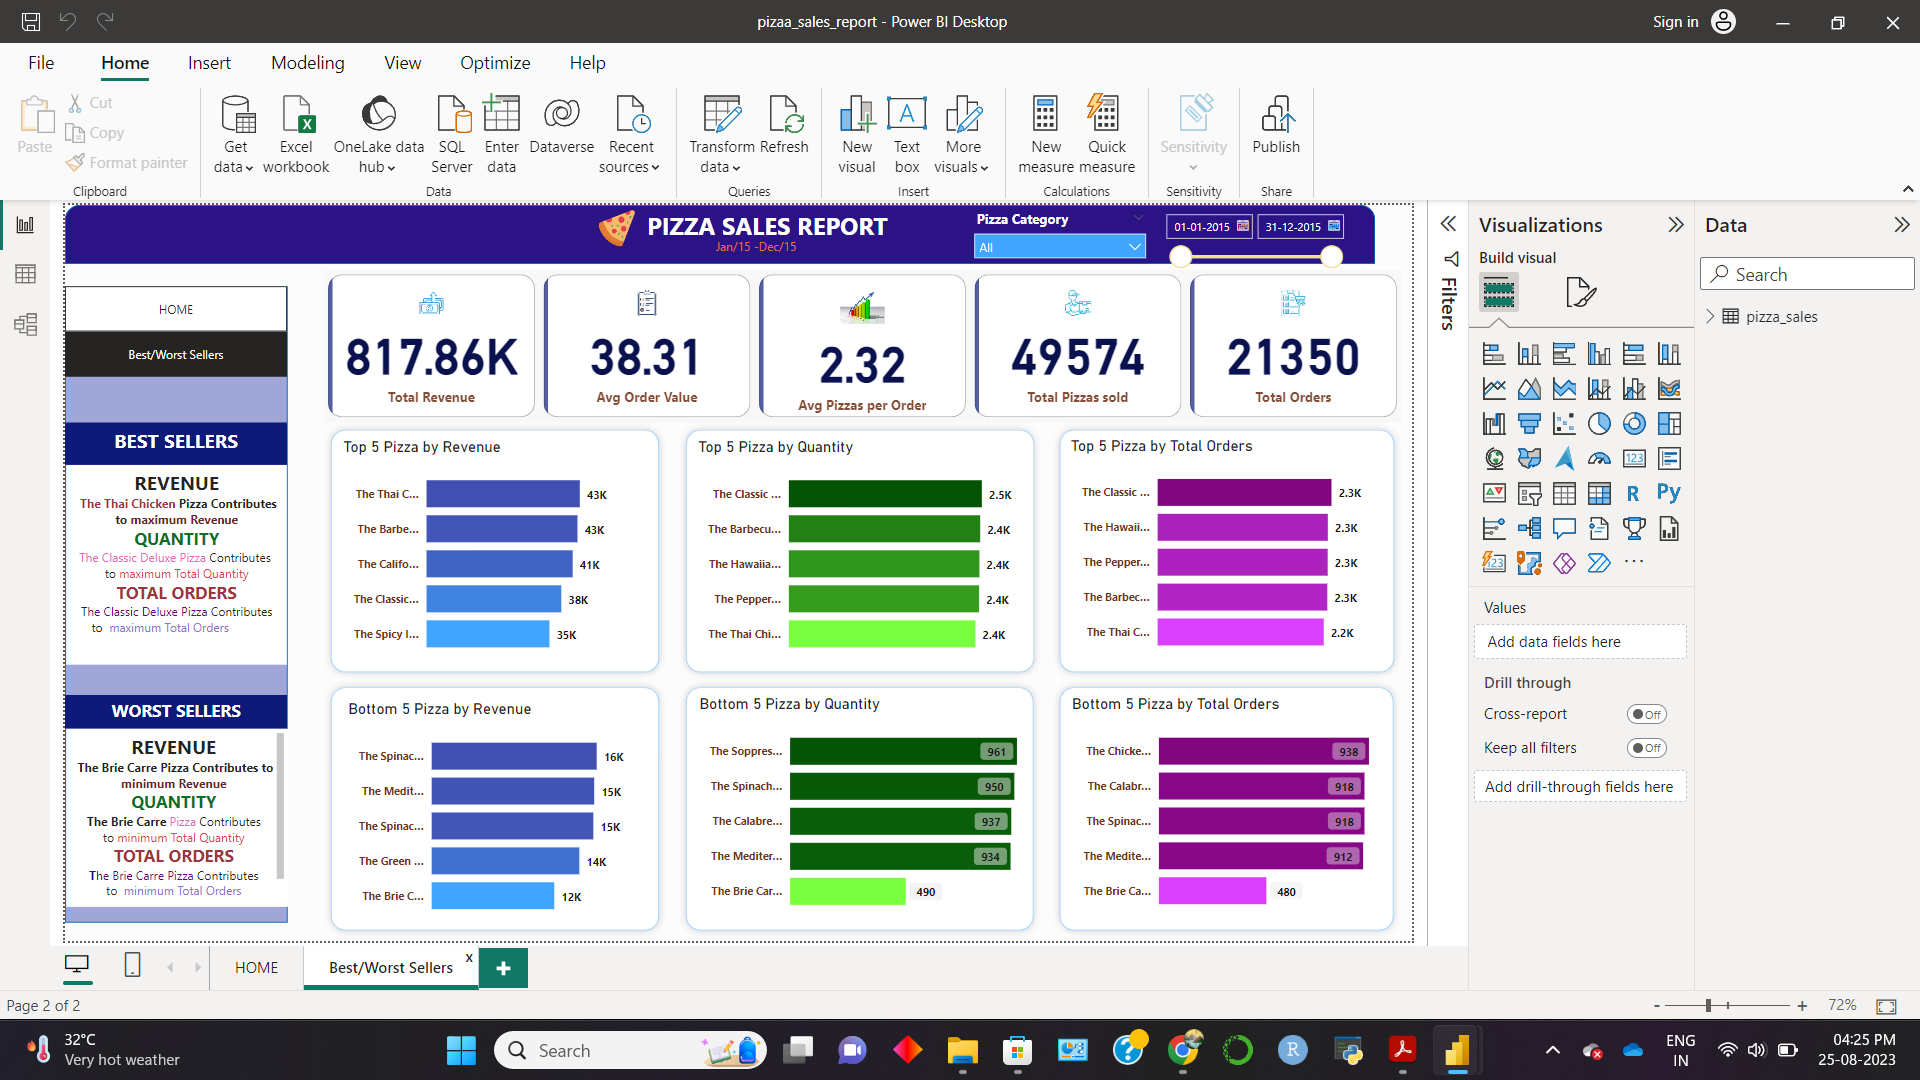

This screenshot's page, from the dashboard's own definition file:
{"tool":"powerbi","page":{"name":"best/worst Seller","canvas":[1500,820],"ordinal":1},"visuals":[{"type":"shape","box":[0,0,1459,65.4],"z":0},{"type":"shape","box":[0,90.5,247.8,708.6],"z":1000},{"type":"cardVisual","fields":{"Data":["pizza_sales.Total Revenue","pizza_sales.Avg Order Value","pizza_sales.Avg Pizzas per Order","pizza_sales.Total Pizzas sold","pizza_sales.Total Orders"]},"box":[288.2,72.4,1200.1,169.8],"z":2000},{"type":"textbox","box":[643.2,0,309.1,61.3],"z":3000},{"type":"textbox","box":[719.8,32,125.3,40.4],"z":4000},{"type":"image","box":[560,0,110,52.5],"z":5000},{"type":"shape","box":[288.2,242.2,381.5,286.8],"z":6000},{"type":"textbox","box":[0,242.8,247.5,47.3],"z":7000},{"type":"textbox","box":[0,545.4,247.5,37.8],"z":8000},{"type":"textbox","box":[1.6,290,245.9,222.3],"z":9000},{"type":"textbox","box":[1.6,583.2,247.5,198.6],"z":10000},{"type":"slicer","fields":{"Values":["pizza_sales.pizza_category"]},"box":[1002.4,0,211.6,61.3],"z":11000},{"type":"slicer","fields":{"Values":["pizza_sales.order_date"]},"box":[1213.8,0,217.5,72.5],"z":12000},{"type":"shape","box":[683.6,242.2,403.7,286.8],"z":13000},{"type":"shape","box":[1099.8,242.2,388.4,286.8],"z":14000},{"type":"shape","box":[288.5,529.6,381.5,286.9],"z":15000},{"type":"shape","box":[684.1,529.6,403.5,286.9],"z":16000},{"type":"shape","box":[1100.3,529.6,387.8,286.9],"z":17000},{"type":"barChart","title":"Top 5 Pizza by Revenue ","fields":{"Category":["pizza_sales.pizza_name"],"Y":["pizza_sales.Total Revenue"]},"box":[304.2,258.5,338.9,255.4],"z":18000},{"type":"barChart","title":"Bottom 5 Pizza by Revenue ","fields":{"Category":["pizza_sales.pizza_name"],"Y":["pizza_sales.Total Revenue"]},"box":[310.5,551.3,338.3,254.8],"z":19000},{"type":"barChart","title":"Top 5 Pizza by Quantity","fields":{"Category":["pizza_sales.pizza_name"],"Y":["pizza_sales.Total Pizzas sold"]},"box":[699.9,258.5,373.6,255.4],"z":20000},{"type":"barChart","title":"Bottom 5 Pizza by Quantity","fields":{"Category":["pizza_sales.pizza_name"],"Y":["pizza_sales.Total Pizzas sold"]},"box":[701.5,545.4,373.6,255.4],"z":21000},{"type":"barChart","title":"Top 5 Pizza by Total Orders","fields":{"Category":["pizza_sales.pizza_name"],"Y":["pizza_sales.Total Orders"]},"box":[1115.1,257.6,356.4,254.8],"z":22000},{"type":"barChart","title":"Bottom 5 Pizza by Total Orders","fields":{"Category":["pizza_sales.pizza_name"],"Y":["pizza_sales.Total Orders"]},"box":[1116.5,545.7,356.4,254.8],"z":23000},{"type":"pageNavigator","box":[0,90.5,247.8,50.1],"z":24000},{"type":"pageNavigator","box":[0,140.6,247.8,50.1],"z":25000},{"type":"image","box":[196.3,137.8,52.9,55.7],"z":26000},{"type":"image","box":[1.4,130.9,50.1,69.6],"z":27000},{"type":"image","box":[1.4,91.9,54.3,47.3],"z":28000}]}

Visuals, with their boxes on the page's 1500x820 design canvas (x1, y1, x2, y2). These are canvas units, not pixel positions in the 1920x1080 screenshot, which may show the page scaled, cropped or inside an application window:
shape: 0, 0, 1459, 65
shape: 0, 90, 248, 799
cardVisual - pizza_sales.Total Revenue x pizza_sales.Avg Order Value: 288, 72, 1488, 242
textbox: 643, 0, 952, 61
textbox: 720, 32, 845, 72
image: 560, 0, 670, 52
shape: 288, 242, 670, 529
textbox: 0, 243, 248, 290
textbox: 0, 545, 248, 583
textbox: 2, 290, 248, 512
textbox: 2, 583, 249, 782
slicer - pizza_sales.pizza_category: 1002, 0, 1214, 61
slicer - pizza_sales.order_date: 1214, 0, 1431, 72
shape: 684, 242, 1087, 529
shape: 1100, 242, 1488, 529
shape: 288, 530, 670, 816
shape: 684, 530, 1088, 816
shape: 1100, 530, 1488, 816
"Top 5 Pizza by Revenue " barChart: 304, 258, 643, 514
"Bottom 5 Pizza by Revenue " barChart: 310, 551, 649, 806
"Top 5 Pizza by Quantity" barChart: 700, 258, 1074, 514
"Bottom 5 Pizza by Quantity" barChart: 702, 545, 1075, 801
"Top 5 Pizza by Total Orders" barChart: 1115, 258, 1472, 512
"Bottom 5 Pizza by Total Orders" barChart: 1116, 546, 1473, 800
pageNavigator: 0, 90, 248, 141
pageNavigator: 0, 141, 248, 191
image: 196, 138, 249, 194
image: 1, 131, 52, 200
image: 1, 92, 56, 139
